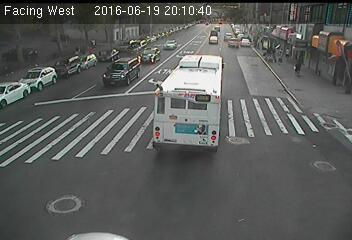neg: (184, 127, 210, 161), (139, 106, 159, 133)
pos: (291, 58, 308, 80)
